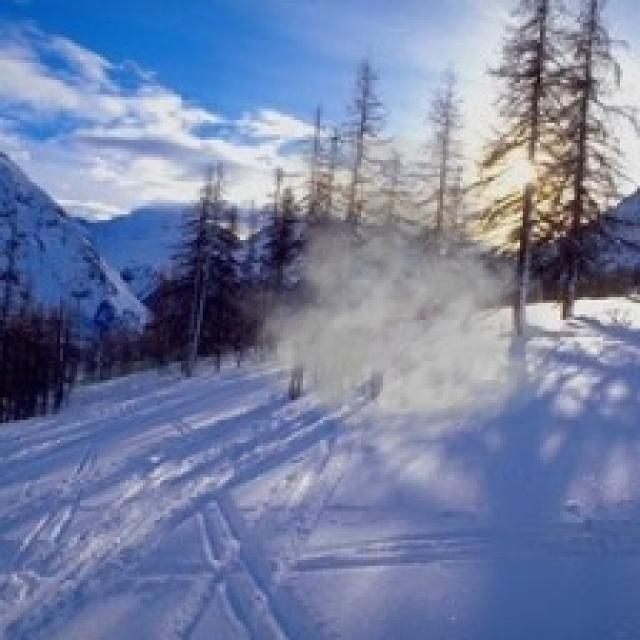smoke: (220, 103, 566, 448)
